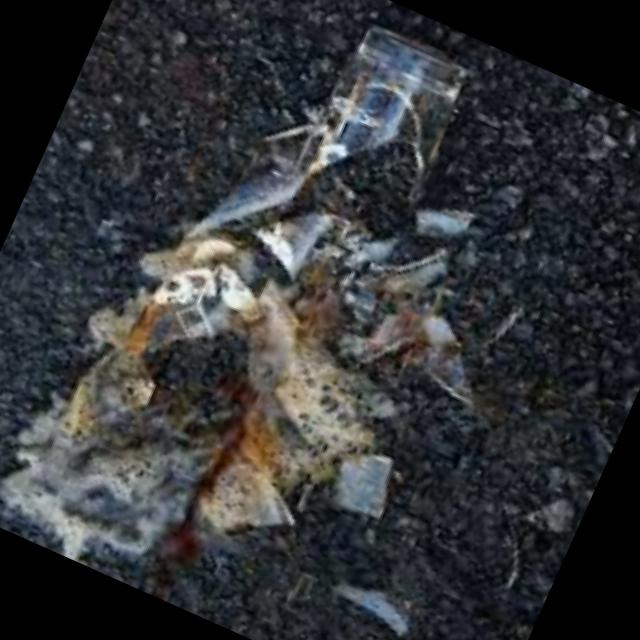PecahanKaca: (0, 0, 624, 640)
